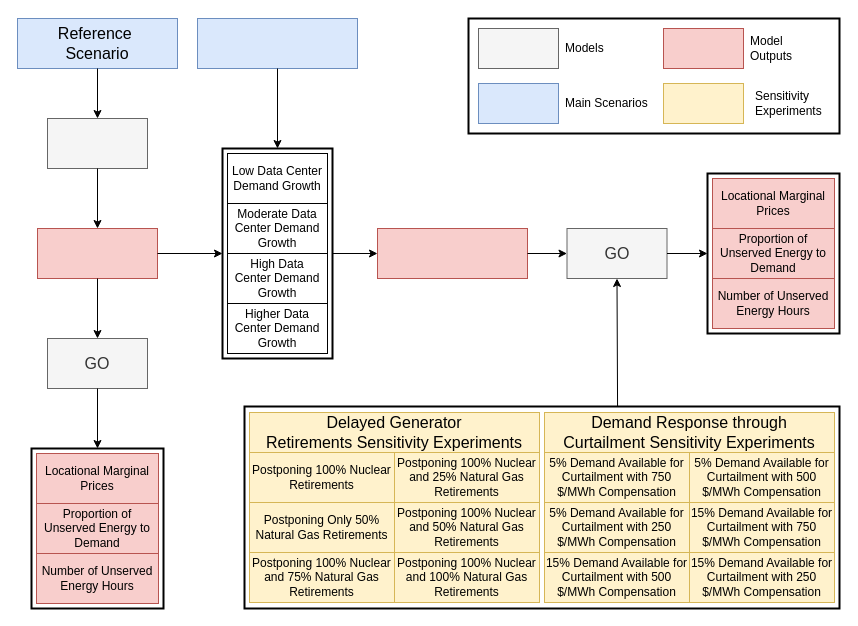
Image size: 858x626. Some labels were removed from this diagram. Here are the shapes that lost their labels. From the top down, the centre of each, then its label:
At point (277, 43): "Data Center Scenarios".
At point (97, 143): "TELL".
At point (97, 253): "Hourly Demand by Balancing Authority".
At point (452, 253): "Hourly Demand by Balancing Authority + Data Center Demand".
